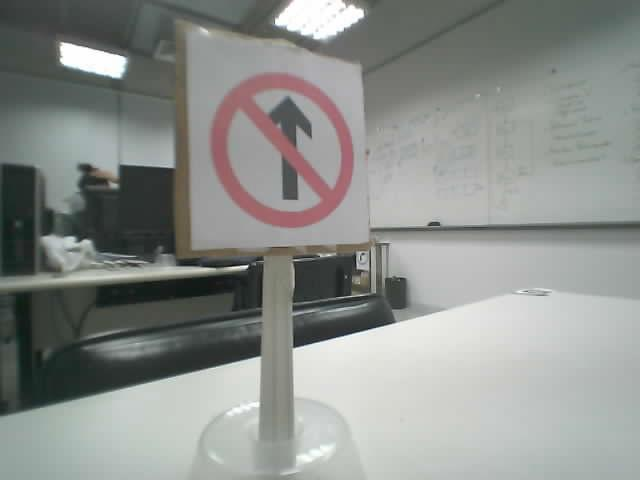R-3_sentido-proibido: (209, 70, 355, 228)
